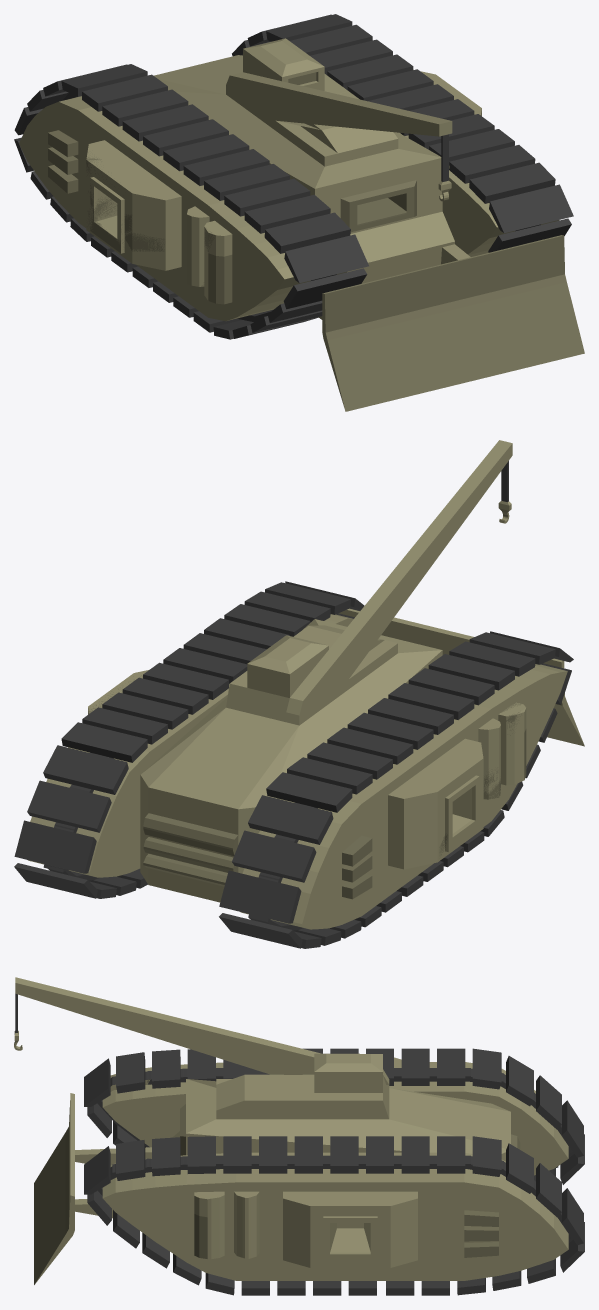
File: Support-Re-exportado.fbx
The picture shows the model from 3 angles, top to bottom: view 1: azimuth 30°, elevation 25°; view 2: azimuth 150°, elevation 25°; view 3: azimuth 270°, elevation 25°; orthographic projection. The views are drawn at different scales.
Parts seen in each view (by area): view 1: Cube.002, Cube, Cube.001; view 2: Cube.002, Cube, Cube.001; view 3: Cube.002, Cube, Cube.001.
Boxes of the visible parts, x1,y1,x2,y2 form: Cube.002: [14, 14, 584, 411]; Cube: [14, 41, 570, 332]; Cube.001: [276, 91, 397, 153]; Cube.002: [14, 440, 584, 948]; Cube: [37, 618, 571, 919]; Cube.001: [293, 625, 384, 649]; Cube.002: [14, 977, 584, 1295]; Cube: [116, 1074, 561, 1229]; Cube.001: [216, 1074, 378, 1110].
Bounding box in the file's own units: 1022 × 762 × 1615.
